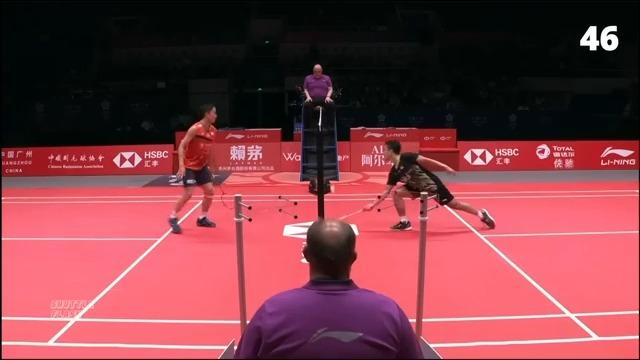Shuttlecock: (327, 182, 339, 197)
